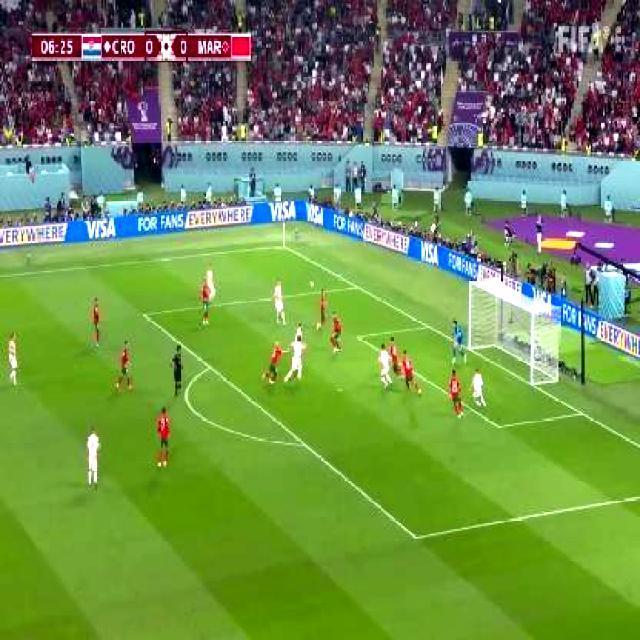bigarea_bottom_inner: (406, 525, 423, 549)
bigarea_top_inner: (138, 306, 150, 322)
bigarea_top_outter: (352, 282, 360, 290)
bottom_arc_area_intersection: (297, 434, 311, 454)
corner: (277, 243, 286, 249)
smallarea_bottom_inner: (492, 417, 506, 435)
smallarea_bottom_outter: (576, 405, 586, 420)
smallarea_top_inner: (354, 329, 363, 343)
smallarea_top_outter: (423, 320, 432, 332)
top_arc_area_intersection: (203, 358, 215, 376)
